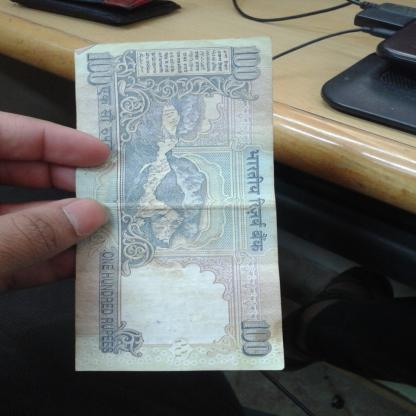Old100Back: (74, 36, 287, 371)
